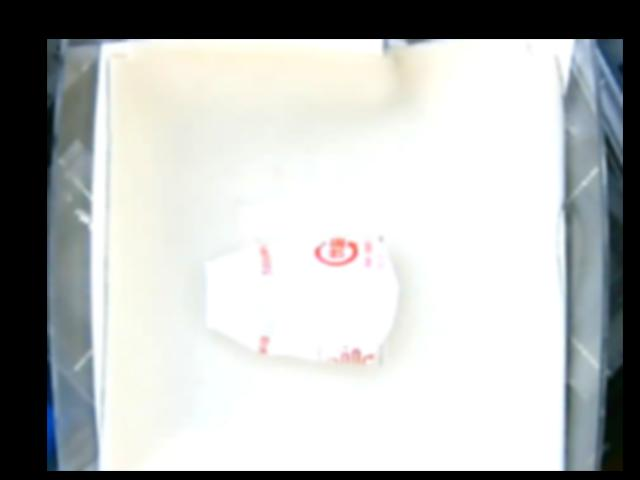Bottle: (203, 234, 401, 365)
